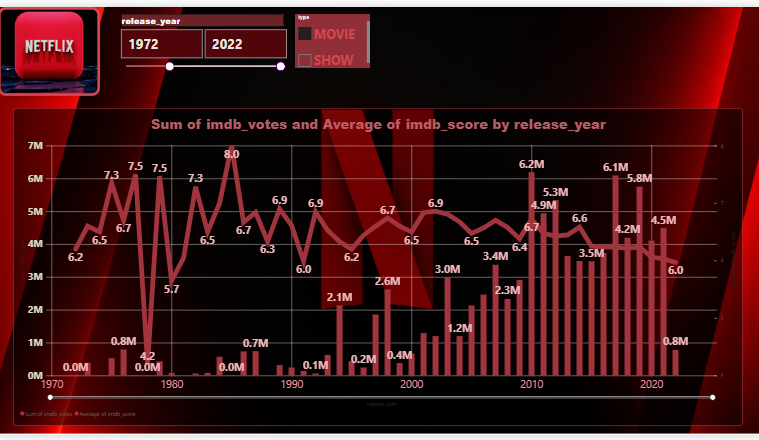

Layout of this report page (visuals, bound fields, positions):
{"tool":"powerbi","page":{"name":"Dashboard-3","canvas":[1280,720],"ordinal":2},"visuals":[{"type":"image","box":[1.2,0,149.7,148.5],"z":0},{"type":"slicer","fields":{"Values":["Netflix TV Shows and Movies.release_year"]},"box":[166,22,303.3,126.2],"z":1000},{"type":"slicer","fields":{"Values":["Netflix TV Shows and Movies.type"]},"box":[490.8,22.1,149.7,115.3],"z":2000},{"type":"lineClusteredColumnComboChart","fields":{"Category":["Netflix TV Shows and Movies.release_year"],"Y2":["Avg(Netflix TV Shows and Movies.imdb_score)"],"Y":["Sum(Netflix TV Shows and Movies.imdb_votes)"]},"box":[0,168.8,1280.3,551.6],"z":4001}]}

Visuals, with their boxes in screenshot pixels (x1, y1, x2, y2), scaled from the page's 1280x720 canvas onto the 759x440 screenshot:
image: (1,0,89,91)
slicer - Netflix TV Shows and Movies.release_year: (98,13,278,91)
slicer - Netflix TV Shows and Movies.type: (291,14,380,84)
lineClusteredColumnComboChart - Netflix TV Shows and Movies.release_year x Avg(Netflix TV Shows and Movies.imdb_score): (0,103,758,439)
